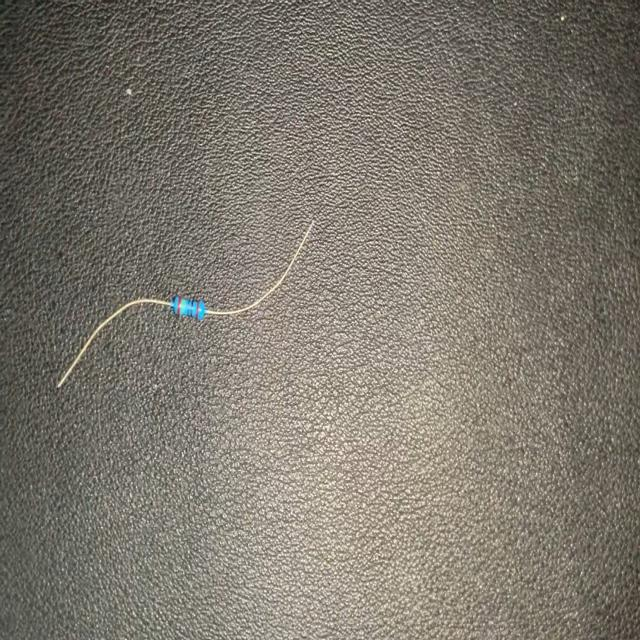resistor: (47, 203, 321, 397)
